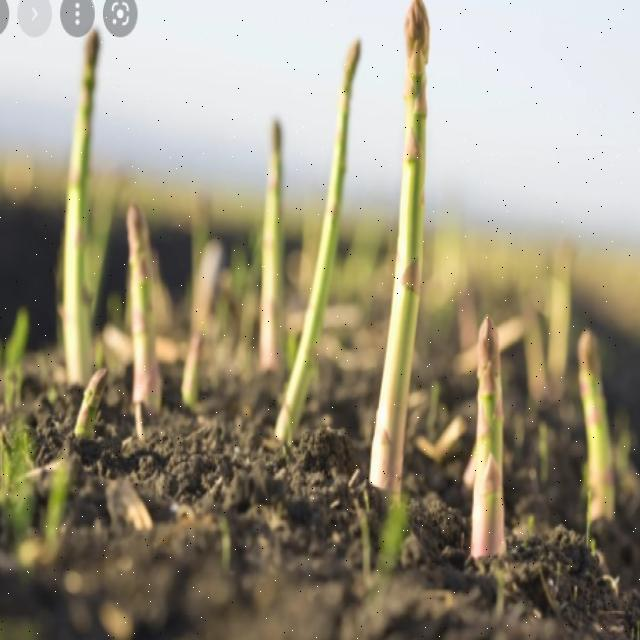aspargus: (275, 38, 360, 444), (370, 0, 431, 496), (469, 319, 506, 564), (577, 330, 617, 523)
